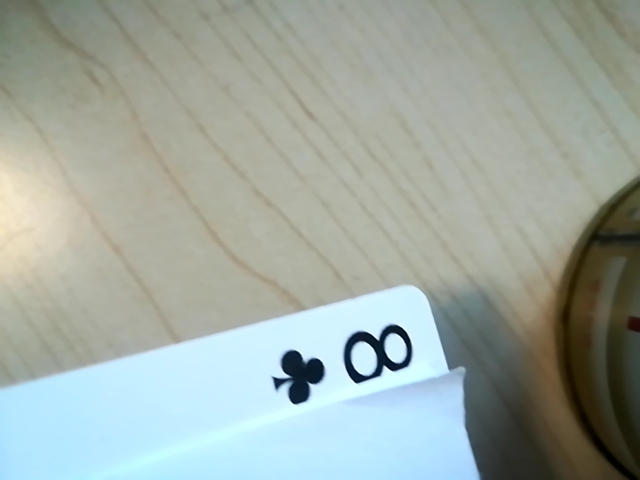mh 8: (271, 310, 435, 412)
